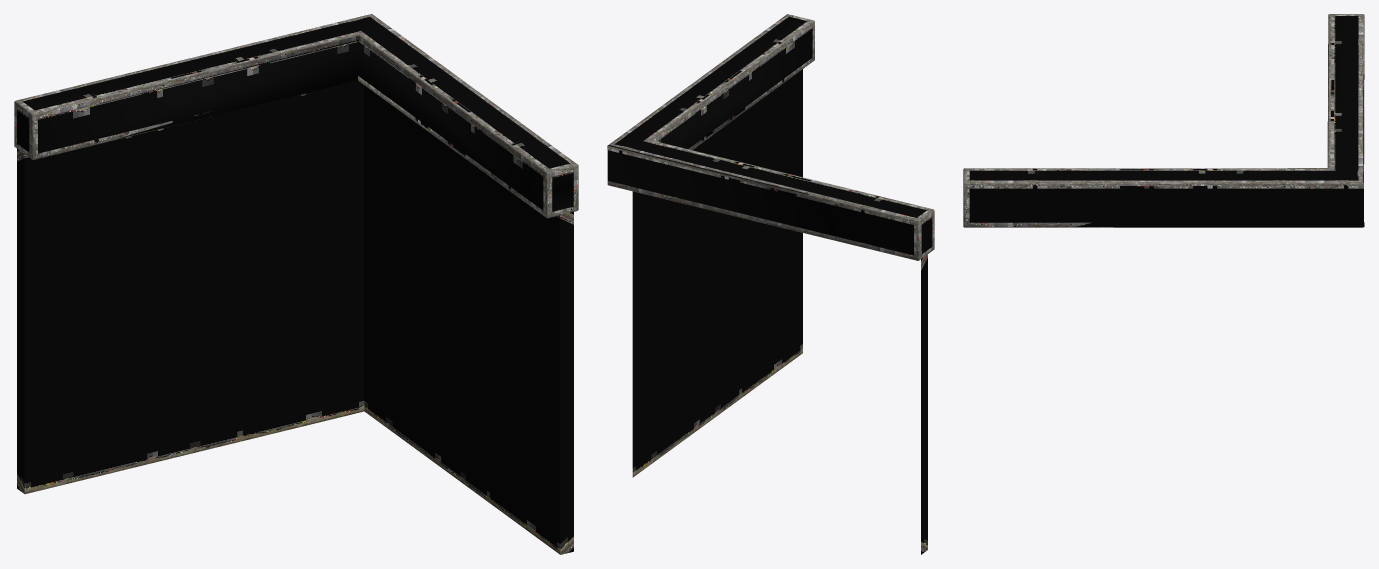
File: sewer_wall_corner_600x600.glb
The picture shows the model from 3 angles, left to right: view 1: azimuth 30°, elevation 25°; view 2: azimuth 150°, elevation 25°; view 3: azimuth 270°, elevation 25°; orthographic projection. The views are drawn at different scales.
Parts seen in each view (by area): view 1: sewer_wall_corner_600x600_LOD0; view 2: sewer_wall_corner_600x600_LOD0; view 3: sewer_wall_corner_600x600_LOD0.
Boxes of the visible parts, x1,y1,x2,y2 form: sewer_wall_corner_600x600_LOD0: (14, 14, 578, 554); sewer_wall_corner_600x600_LOD0: (607, 14, 934, 554); sewer_wall_corner_600x600_LOD0: (963, 14, 1364, 227).
Bounding box in the file's own units: 6.07 × 6.25 × 6.07.
2 materials, 2 textured.
